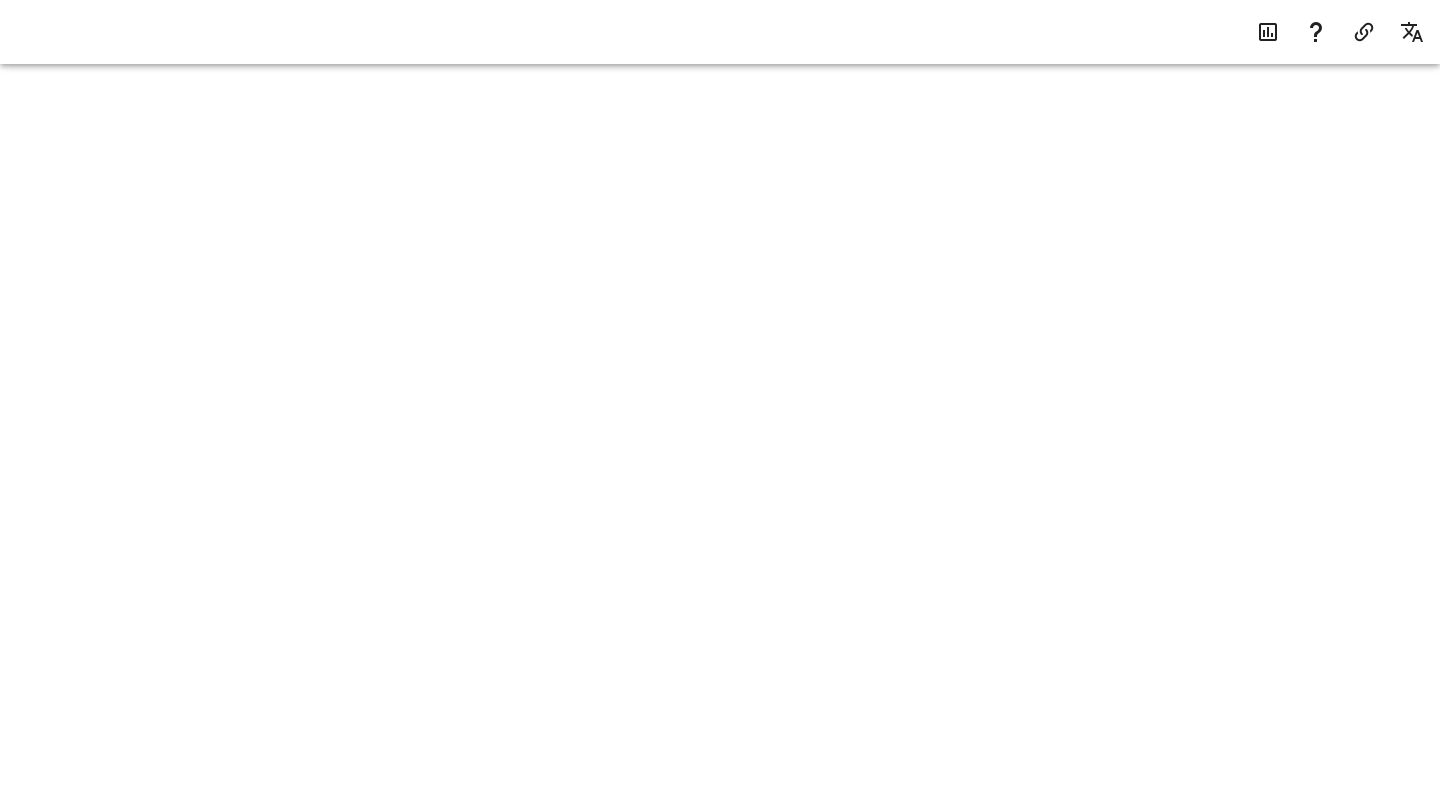
Test case: App.vue › Credits opens
Click the button with test id "credits-btn": click(1364, 32) [1340, 8, 1388, 56]
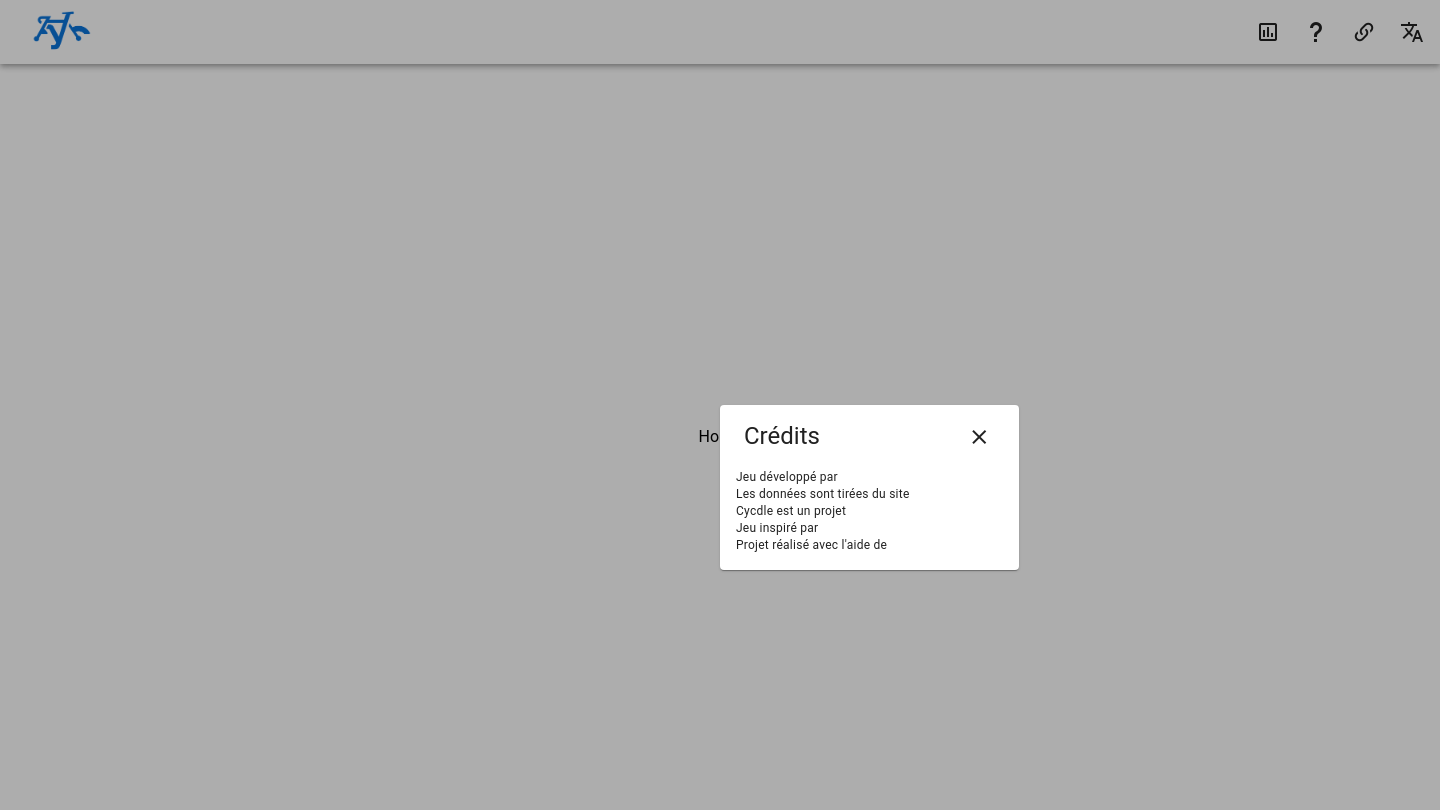
expect the text "Crédits" is shown: met, box [736, 421, 820, 453]
